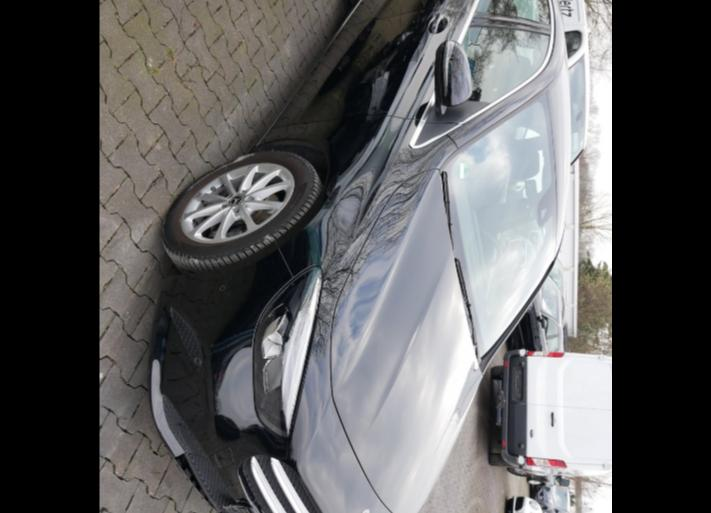Broken part: (151, 394, 240, 513), (236, 464, 266, 513)
